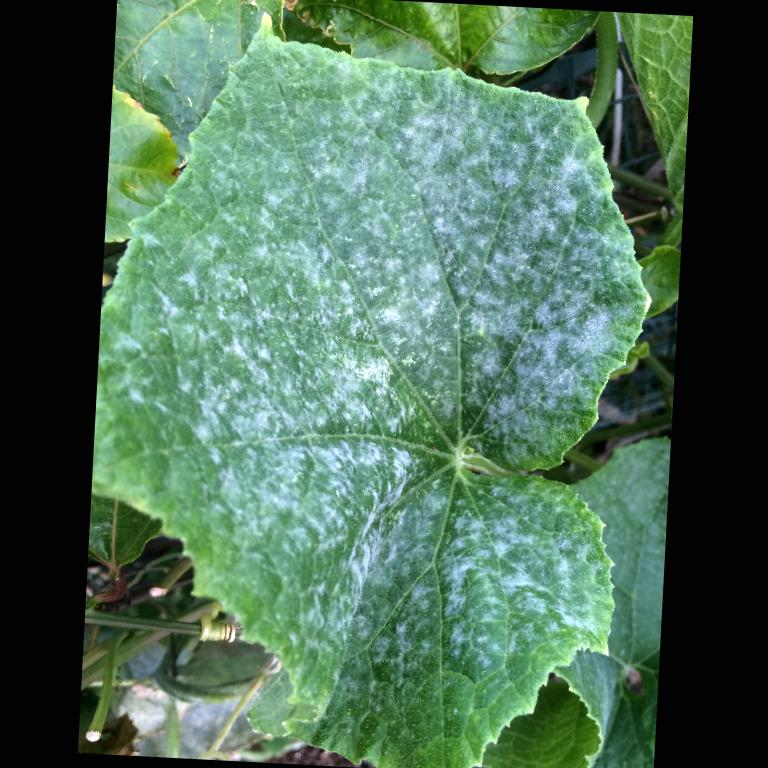powdery-mildew: (130, 173, 362, 532), (364, 134, 585, 422), (344, 493, 582, 704)
